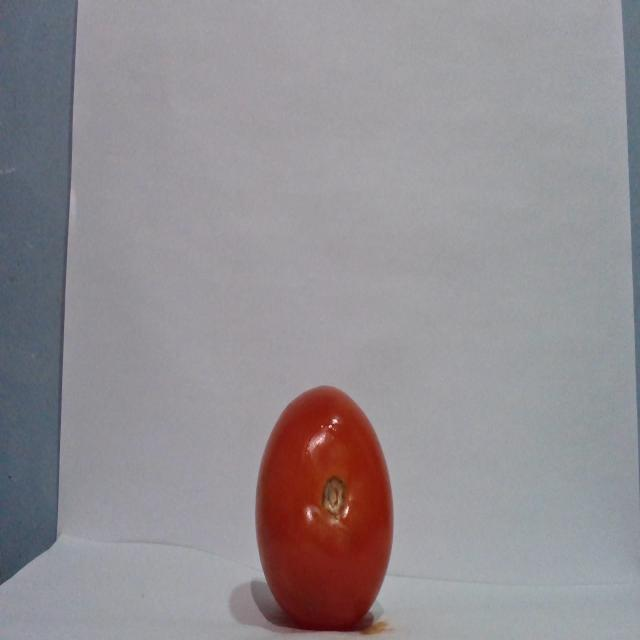Red: (253, 383, 394, 630)
